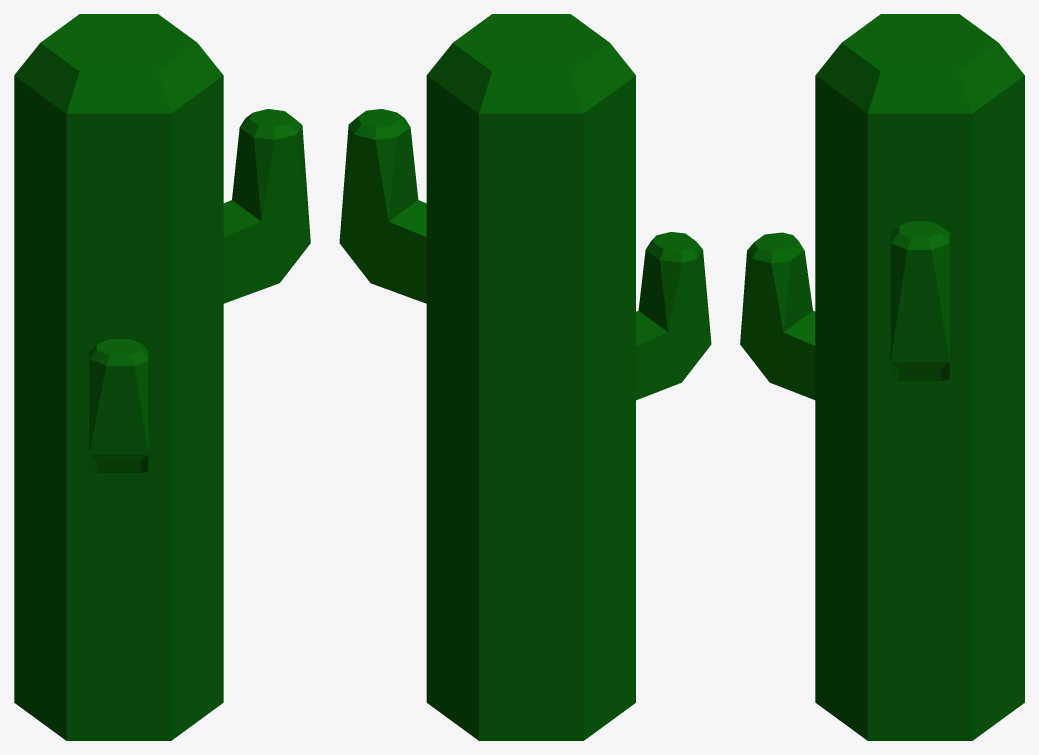
Rendered from Vegetation_New_Cactus_Geometric_01.FBX.
3 views of the same model, side by side, from view 1: azimuth 30°, elevation 25°; view 2: azimuth 150°, elevation 25°; view 3: azimuth 270°, elevation 25° (orthographic).
Visible parts, largest first — view 1: Vegetation_New_Cactus_Geometric_01; view 2: Vegetation_New_Cactus_Geometric_01; view 3: Vegetation_New_Cactus_Geometric_01.
Part boxes in pixels (left/top/right/bottom): Vegetation_New_Cactus_Geometric_01: left=14, top=14, right=310, bottom=740; Vegetation_New_Cactus_Geometric_01: left=339, top=14, right=711, bottom=740; Vegetation_New_Cactus_Geometric_01: left=740, top=14, right=1024, bottom=740.
Size of the model in its own units: 1100 by 2461 by 963.
